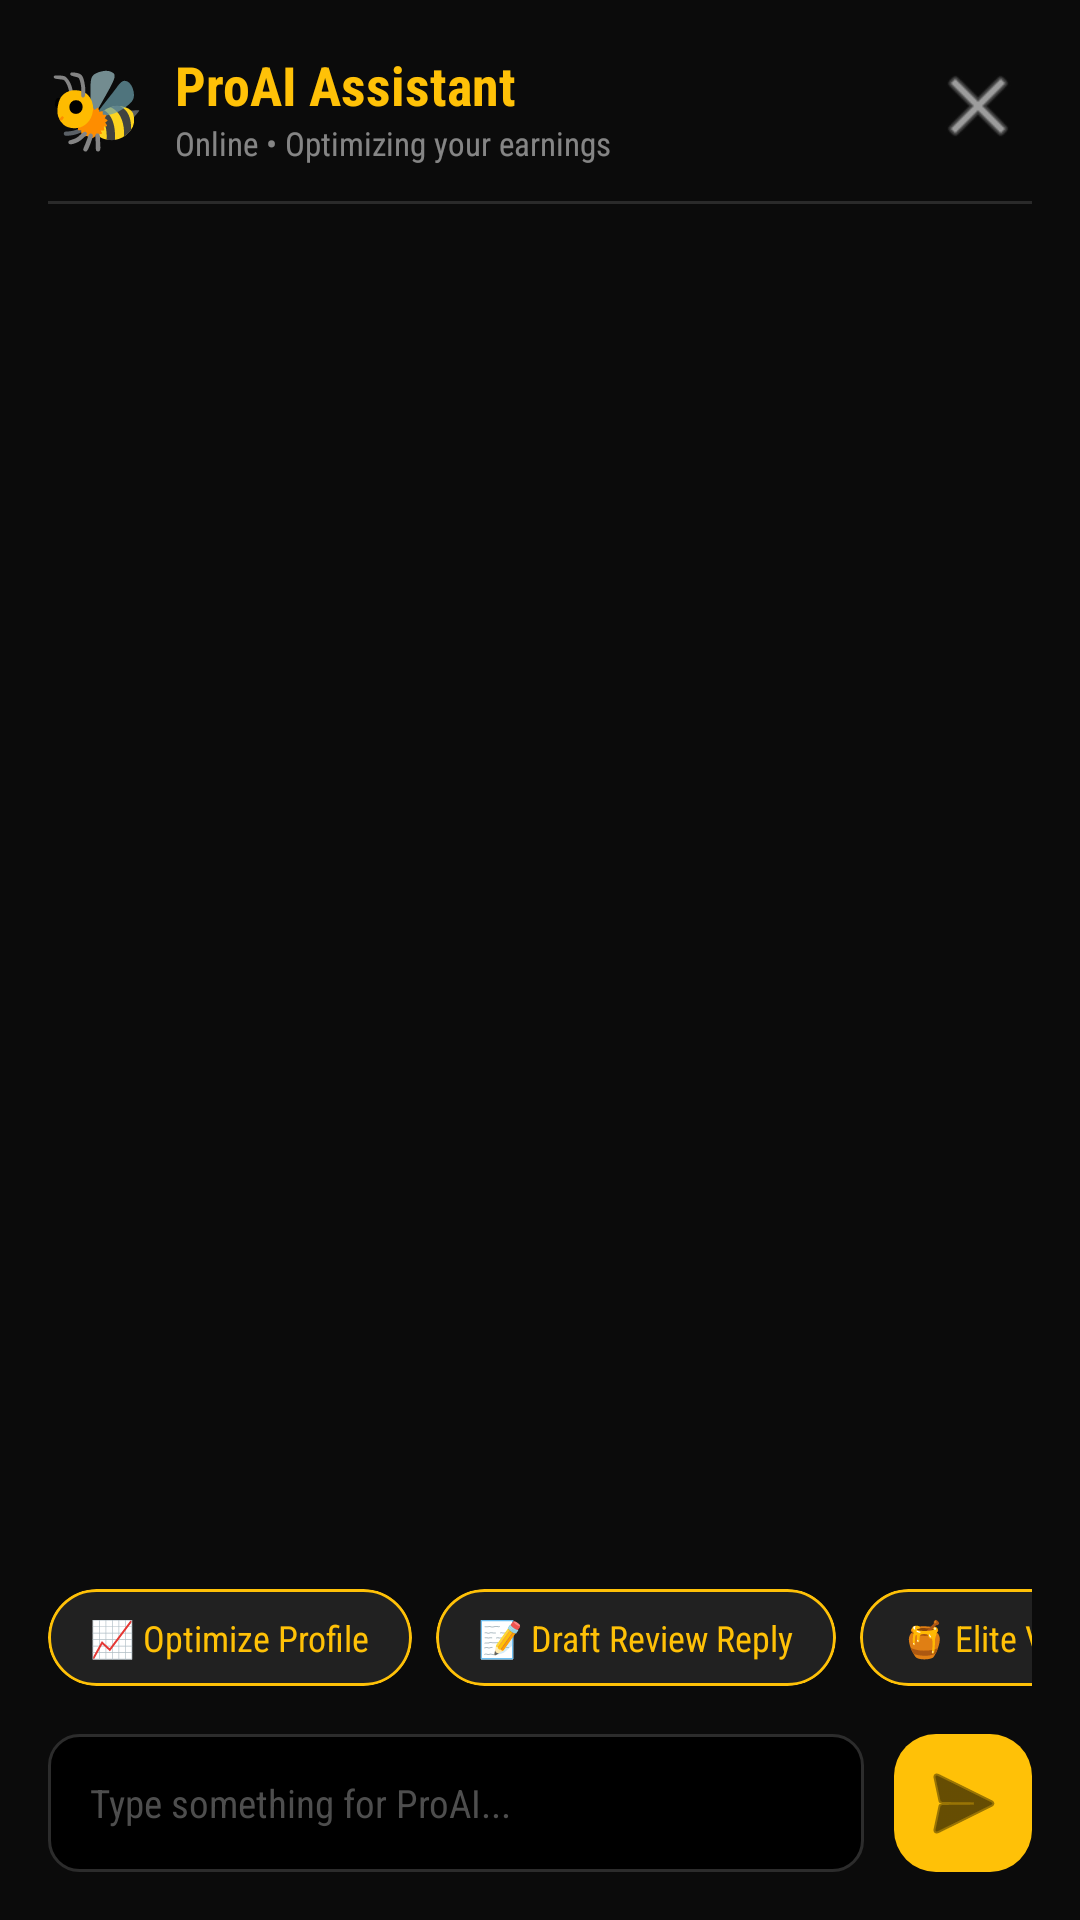

Icon bounding boxes for this 1080 × 1920 phone screenshot, format (x1, y1, x2, y2):
Close: (949, 77, 1007, 135)
Send: (894, 1734, 1032, 1872)
